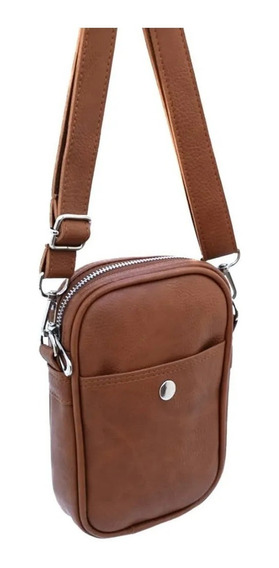cartera: (36, 28, 246, 540)
